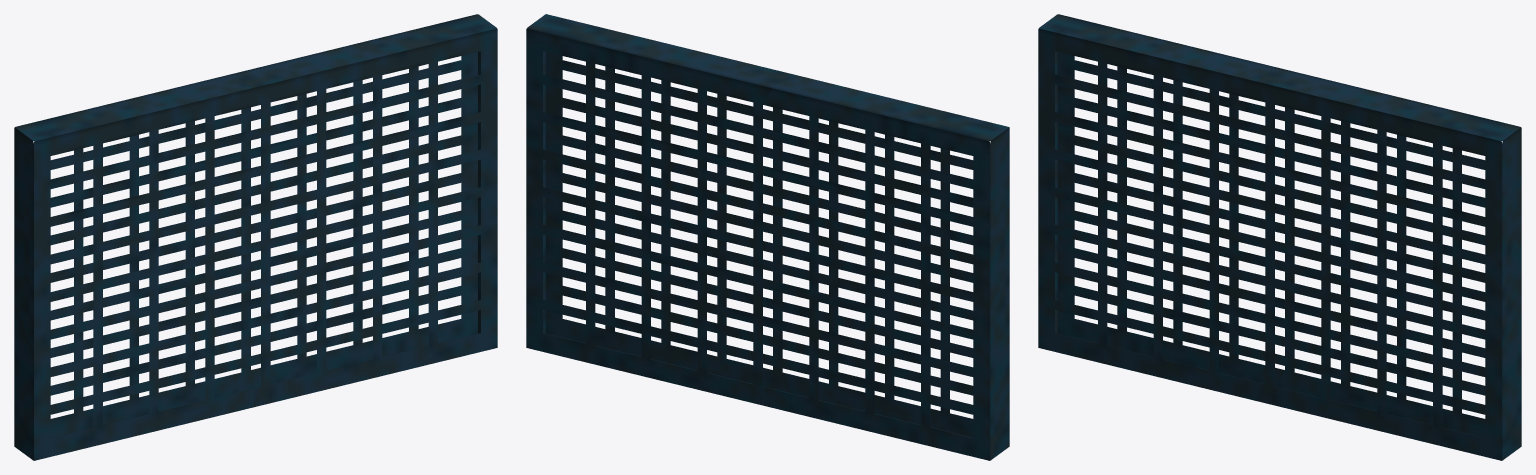
The model's file is fence.fbx.
The picture shows the model from 3 angles, left to right: view 1: azimuth 30°, elevation 25°; view 2: azimuth 150°, elevation 25°; view 3: azimuth 330°, elevation 25°; orthographic projection.
Parts seen in each view (by area): view 1: cuboid; view 2: cuboid; view 3: cuboid.
Boxes of the visible parts, x1,y1,x2,y2 form: cuboid: (14,14,497,460); cuboid: (526,14,1009,460); cuboid: (1038,14,1521,460).
Size of the model in its own units: 154 by 101 by 11.25.
Materials: 1 (1 with a texture image).
